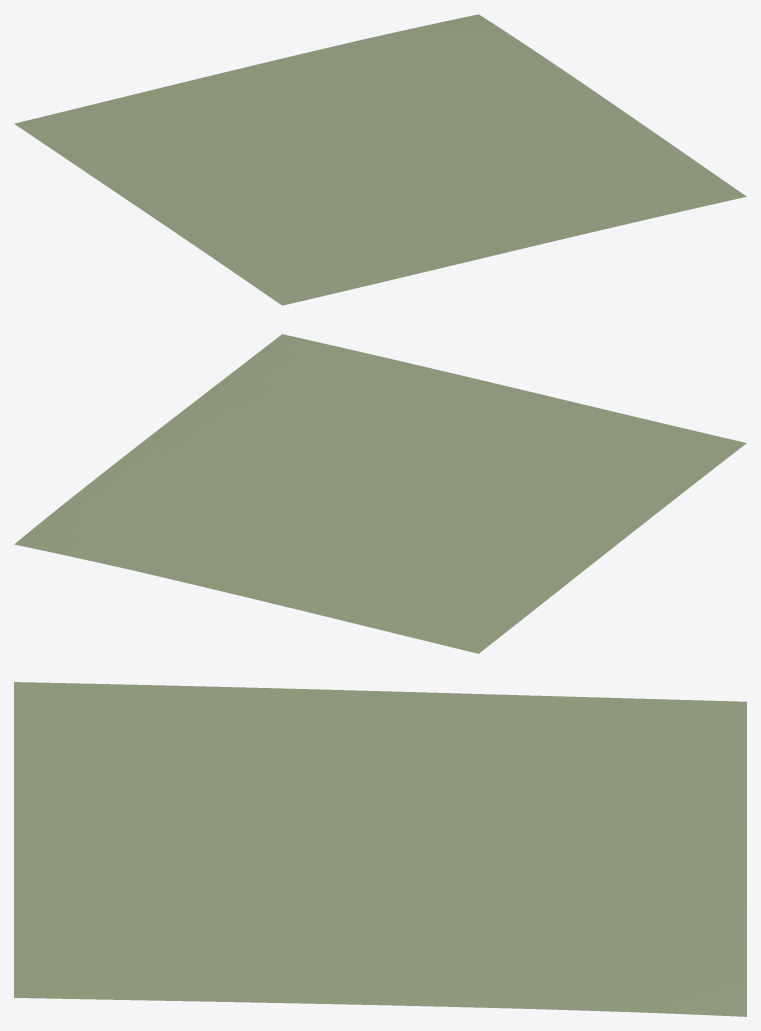
The model's file is expanse-3-7.glb.
3 renders of one model, top to bottom at view 1: azimuth 30°, elevation 25°; view 2: azimuth 150°, elevation 25°; view 3: azimuth 270°, elevation 25°, orthographic. The views are drawn at different scales.
Parts seen in each view (by area): view 1: expanse-3-7; view 2: expanse-3-7; view 3: expanse-3-7.
Boxes of the visible parts, <box> form: expanse-3-7: <box>14,14,746,305</box>; expanse-3-7: <box>14,334,746,653</box>; expanse-3-7: <box>14,682,746,1016</box>.
Bounding box in the file's own units: 256 × 9.68 × 256.
